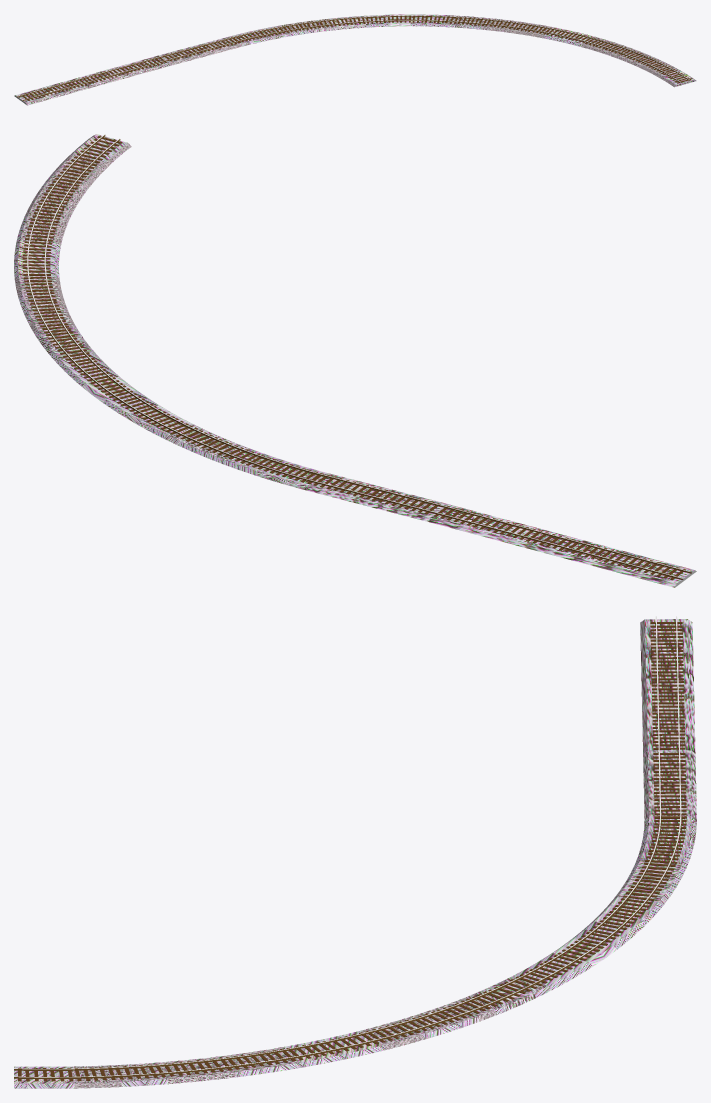
File: GMLID_55518178_9051_1323.dae
3 views of the same model, one above another, from view 1: azimuth 30°, elevation 25°; view 2: azimuth 150°, elevation 25°; view 3: azimuth 270°, elevation 25° (orthographic). The views are drawn at different scales.
Size of the model in its own units: 118 by 68.76 by 3.9.
5 materials, 1 textured.
